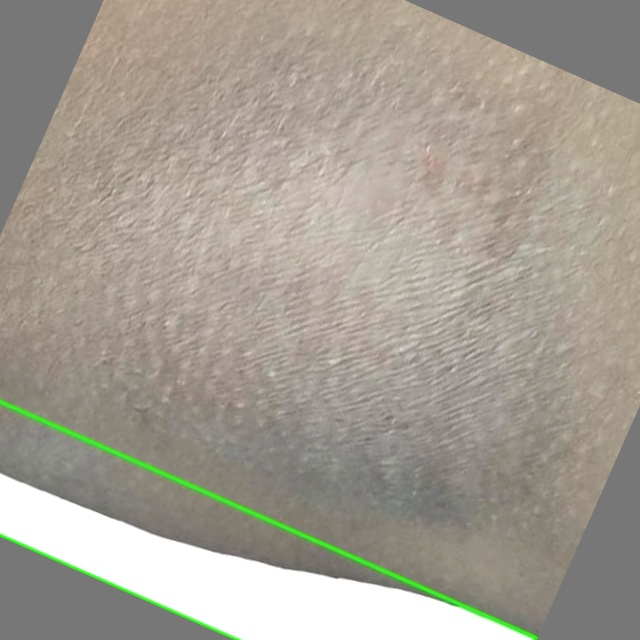Atopic Dermatitis: (0, 401, 536, 639)
